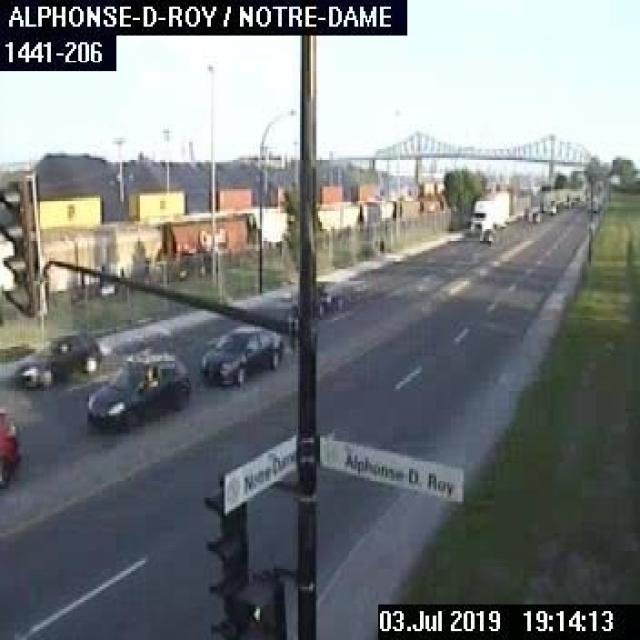vehicle: (84, 351, 189, 429), (196, 322, 282, 389), (11, 329, 100, 389), (286, 278, 349, 329), (464, 191, 509, 234), (0, 402, 20, 487), (521, 203, 542, 223), (476, 226, 496, 243)
